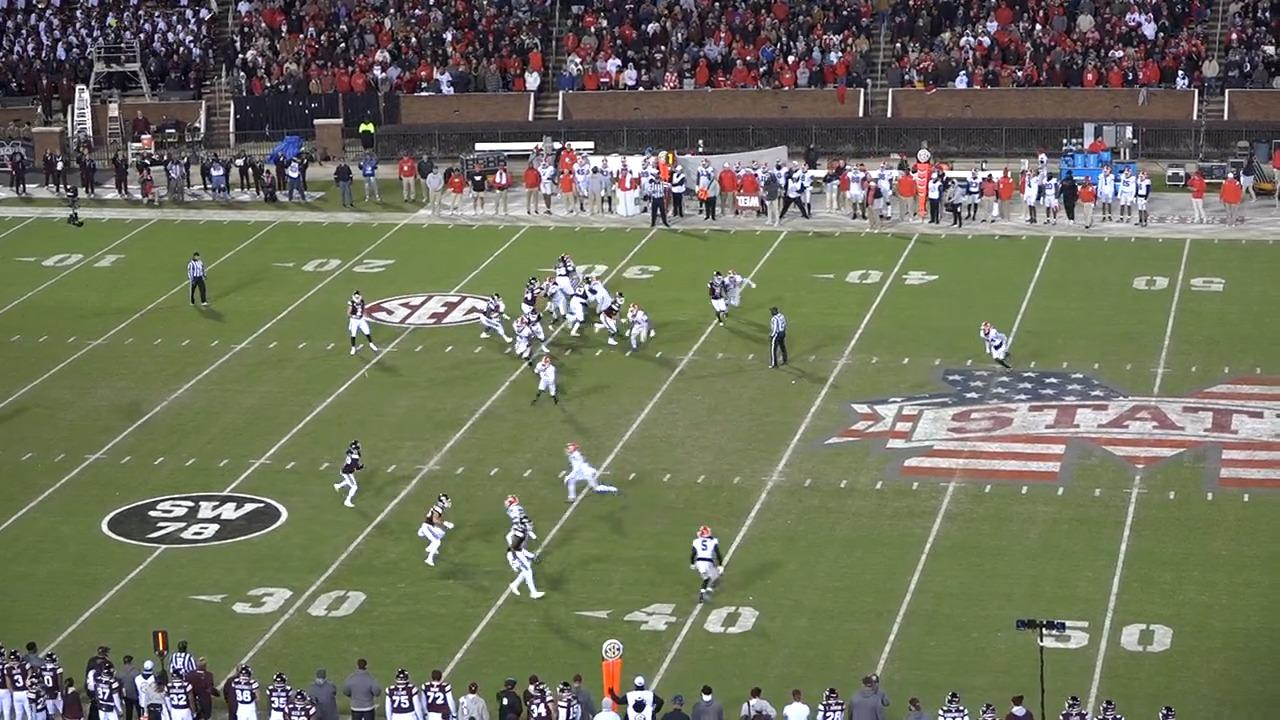player: (556, 443, 615, 507), (501, 520, 543, 605), (689, 522, 726, 604), (414, 493, 452, 569), (346, 287, 382, 356), (500, 489, 540, 551), (336, 440, 370, 512), (979, 320, 1014, 373), (592, 290, 623, 349), (535, 357, 567, 412), (716, 269, 755, 314), (622, 304, 653, 360), (566, 278, 594, 339), (480, 291, 512, 343), (580, 271, 610, 326), (709, 270, 736, 329), (539, 276, 569, 329), (522, 310, 549, 358), (512, 317, 534, 369), (549, 256, 578, 295), (555, 252, 580, 294), (522, 277, 545, 317)
ref: (182, 250, 210, 311), (768, 305, 793, 372), (643, 175, 669, 233), (167, 637, 197, 682)
